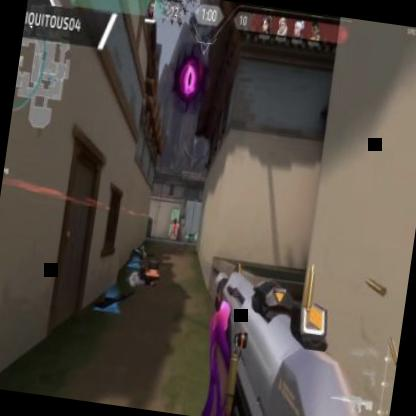enemy: (168, 218, 179, 240), (180, 223, 186, 242)
enemy_head: (173, 219, 177, 224), (182, 223, 184, 228)
